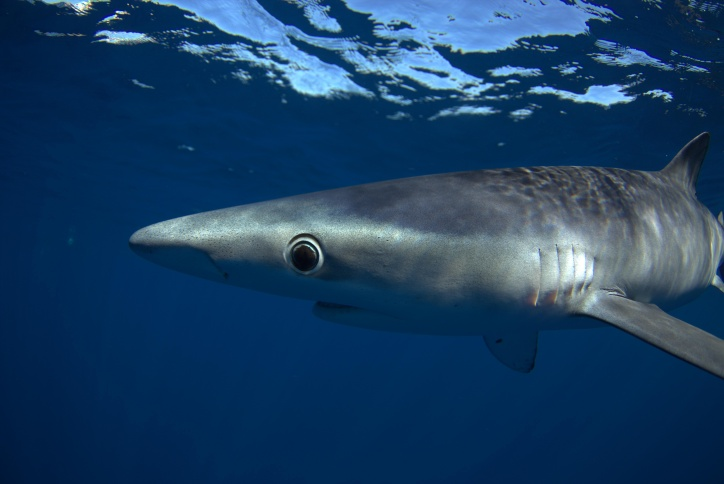Azul: (121, 95, 724, 395)
